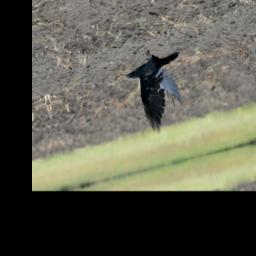Crow: (119, 41, 193, 141)
